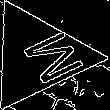M_SW: (1, 24, 76, 88)
